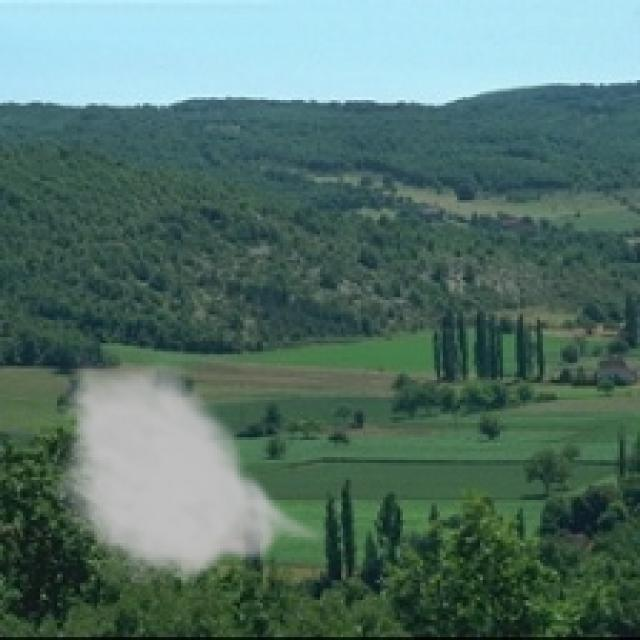Smoke: (51, 348, 332, 592)
